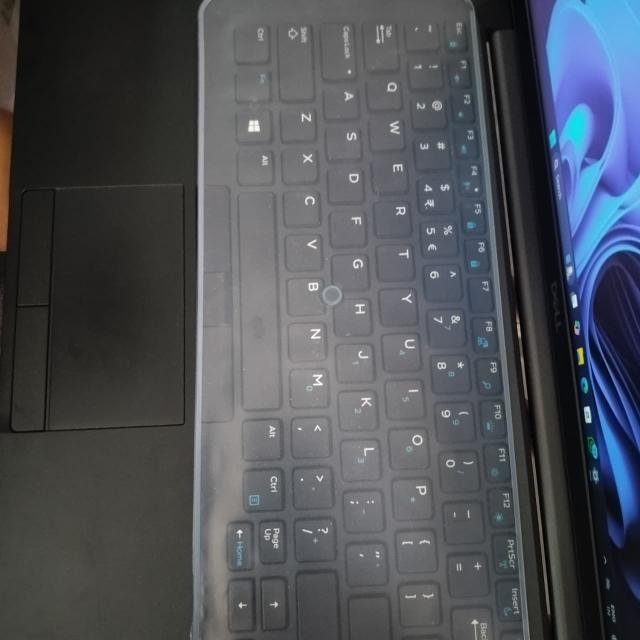laptop: (8, 1, 640, 626)
